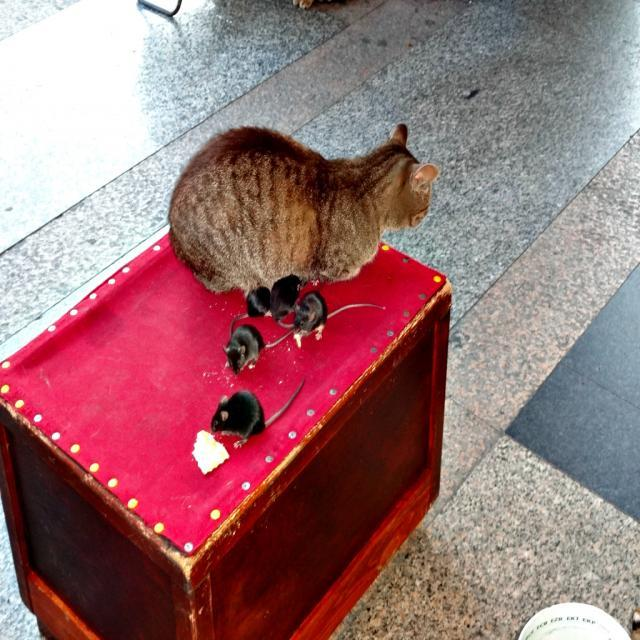rat: (209, 376, 307, 450), (288, 287, 388, 346), (221, 322, 295, 372), (228, 285, 272, 333), (267, 275, 307, 327)
